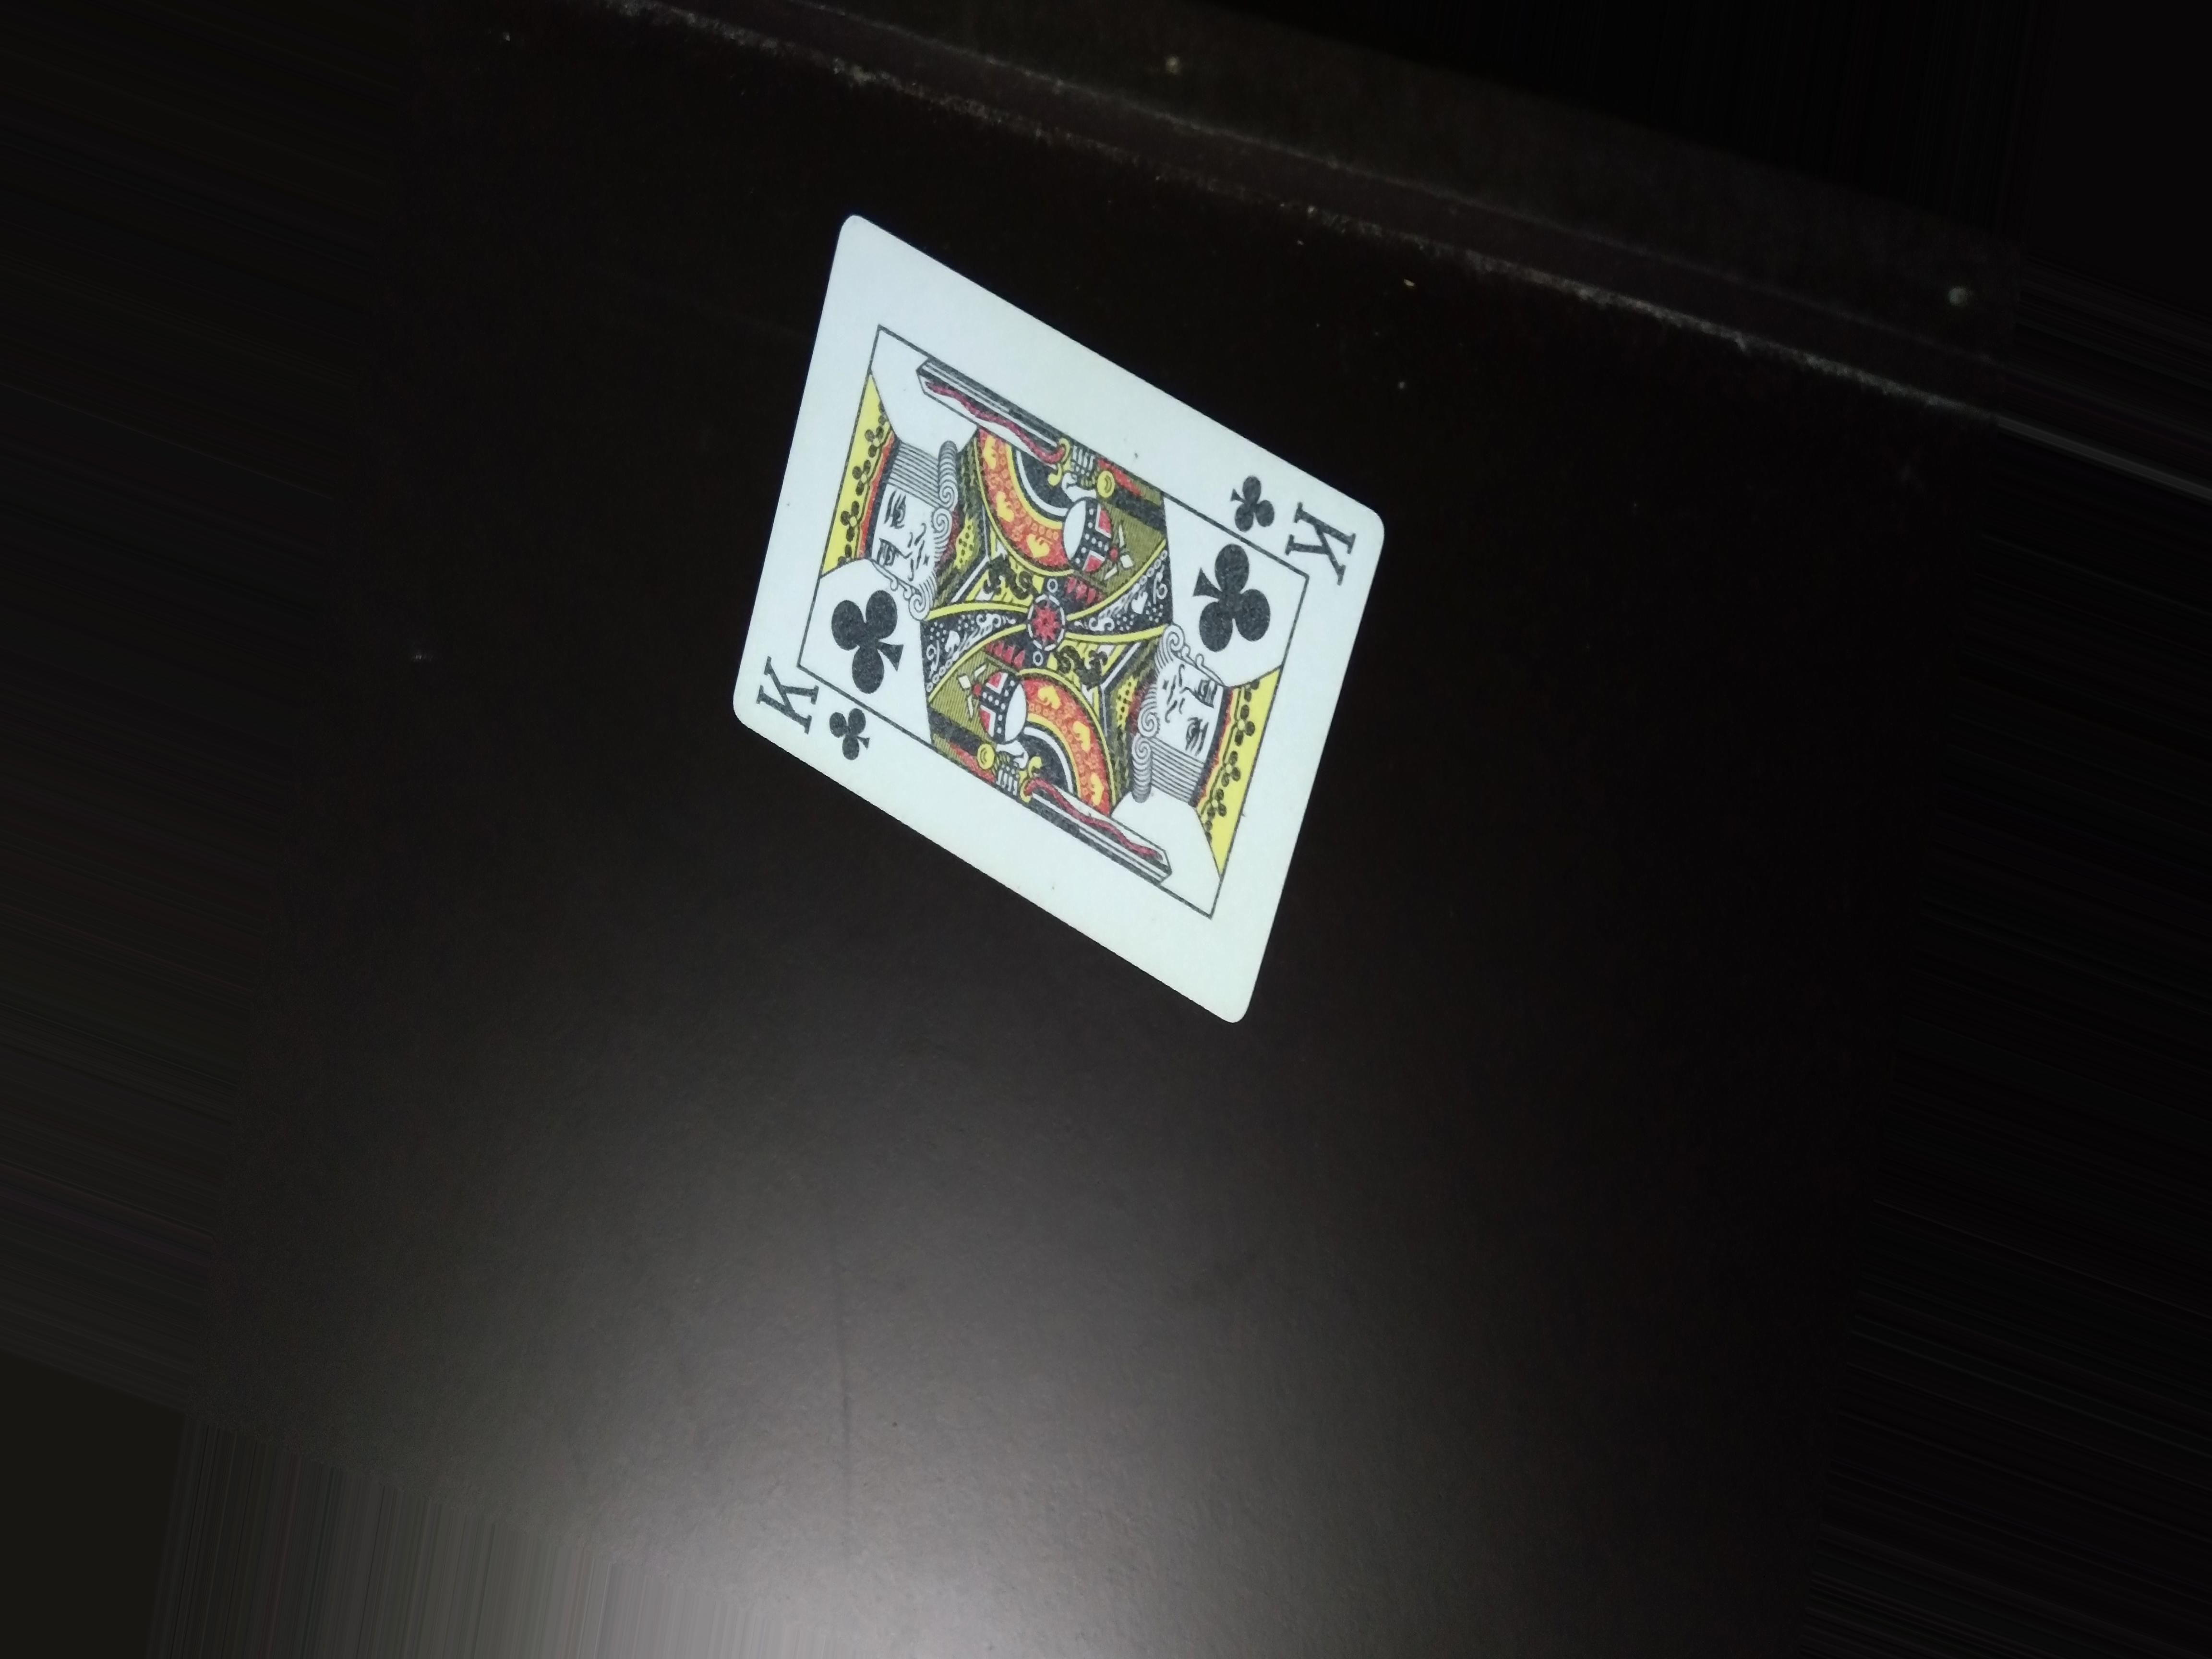KC: (1214, 467, 1366, 575)
